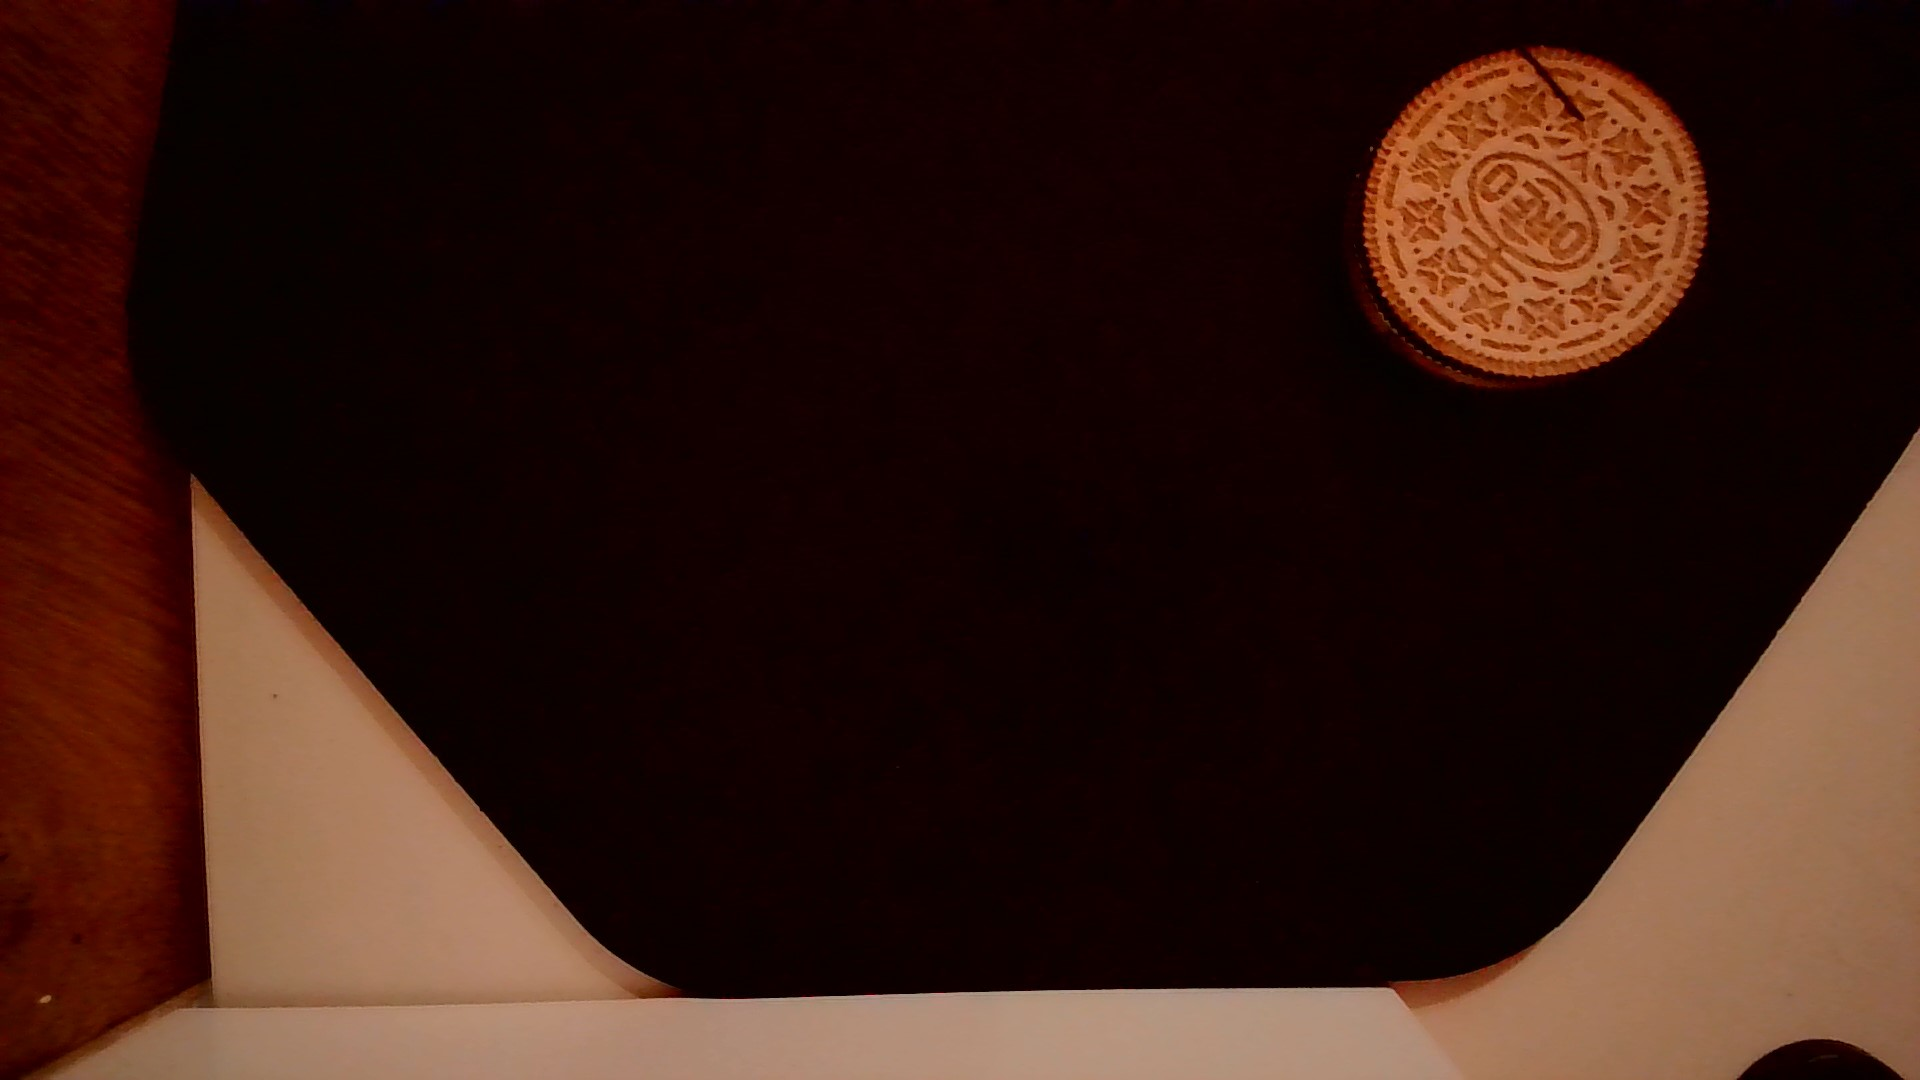Fissure: (1495, 34, 1597, 137)
Oréo: (1333, 44, 1716, 400)
